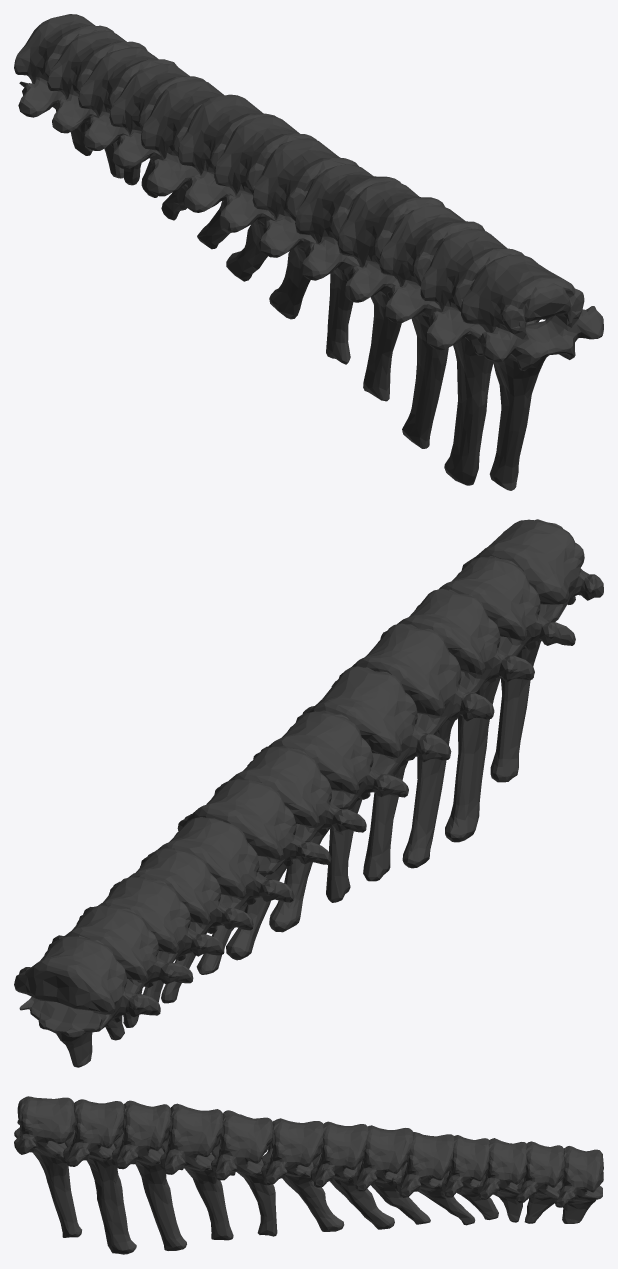
Rendered from b_thoracic_vertebra.glb.
3 renders of one model, top to bottom at view 1: azimuth 30°, elevation 25°; view 2: azimuth 150°, elevation 25°; view 3: azimuth 270°, elevation 25°, orthographic. The views are drawn at different scales.
Visible parts, largest first — view 1: b_thoracic_vertebra; view 2: b_thoracic_vertebra; view 3: b_thoracic_vertebra.
Boxes of the visible parts, <box> form: b_thoracic_vertebra: <box>14,14,603,490</box>; b_thoracic_vertebra: <box>14,519,603,1067</box>; b_thoracic_vertebra: <box>14,1096,603,1254</box>.
Size of the model in its own units: 0.00136 by 0.00229 by 0.00794.
Materials: 1 (1 with a texture image).
